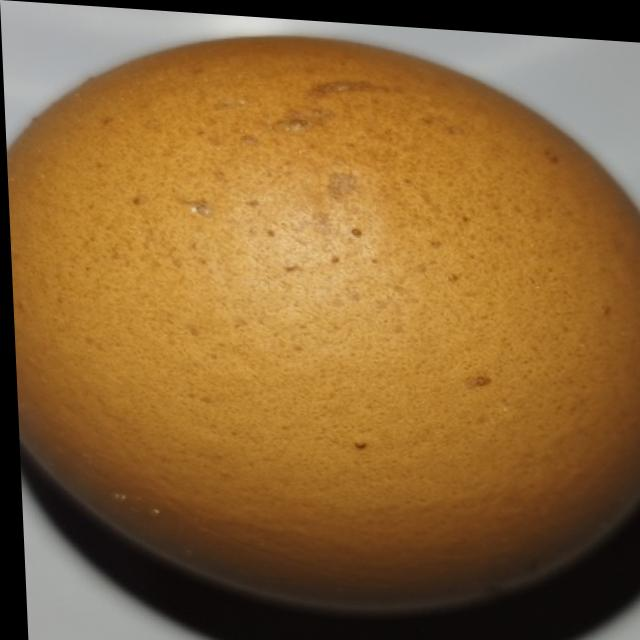unfresh: (0, 12, 640, 640)
